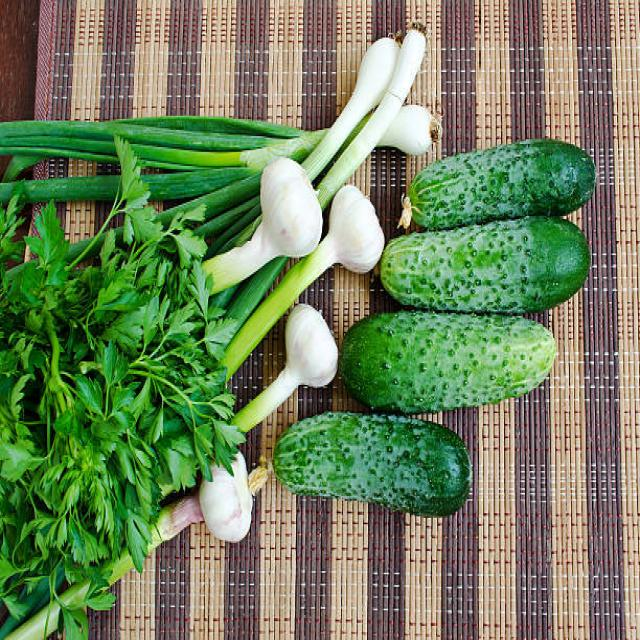cucumber: (340, 308, 557, 414), (273, 411, 471, 518), (384, 218, 593, 315), (406, 140, 597, 232)
